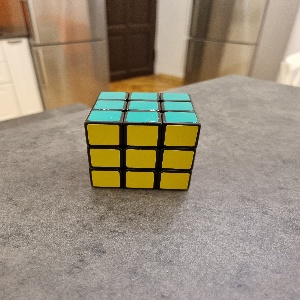cube: (83, 91, 202, 191)
